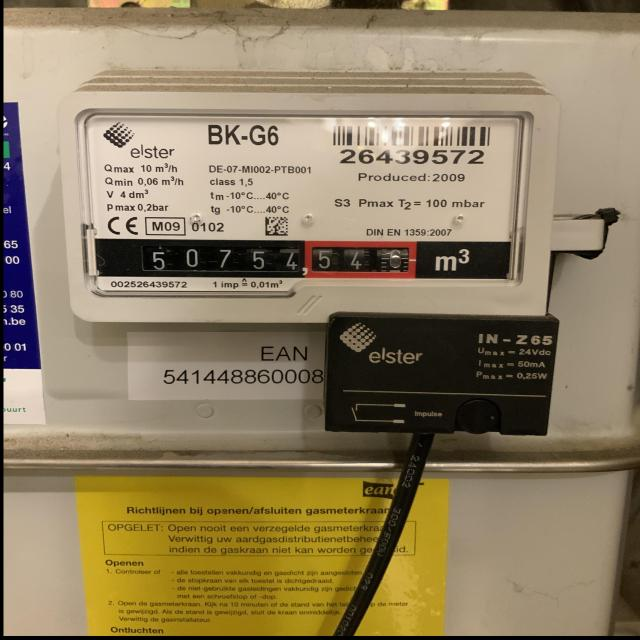gaz_meter: (82, 112, 523, 282)
indication: (134, 239, 412, 280)
